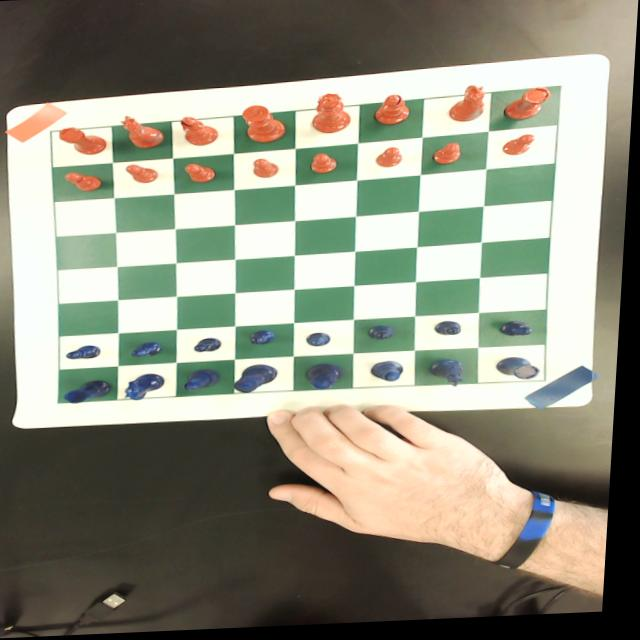B: (188, 370, 225, 393), (374, 364, 410, 386)
K: (238, 365, 284, 395)
N: (127, 374, 170, 401), (430, 362, 470, 391)
P: (503, 324, 538, 341), (133, 342, 170, 358), (69, 345, 107, 360), (197, 338, 227, 355), (437, 324, 468, 340), (371, 327, 400, 344), (309, 334, 337, 351), (253, 331, 280, 347)
Q: (310, 365, 347, 393)
R: (499, 360, 546, 388), (68, 379, 116, 405)
b: (180, 117, 221, 148), (376, 97, 414, 128)
cb: (52, 90, 562, 403)
k: (242, 106, 289, 145)
n: (120, 114, 167, 150), (448, 88, 488, 127)
p: (65, 171, 106, 192), (503, 138, 539, 160), (126, 164, 161, 185), (184, 163, 219, 184), (433, 146, 464, 169), (312, 154, 341, 176), (254, 159, 283, 180), (376, 150, 404, 171)
q: (313, 95, 354, 136)
r: (504, 91, 554, 125), (59, 126, 110, 156)
